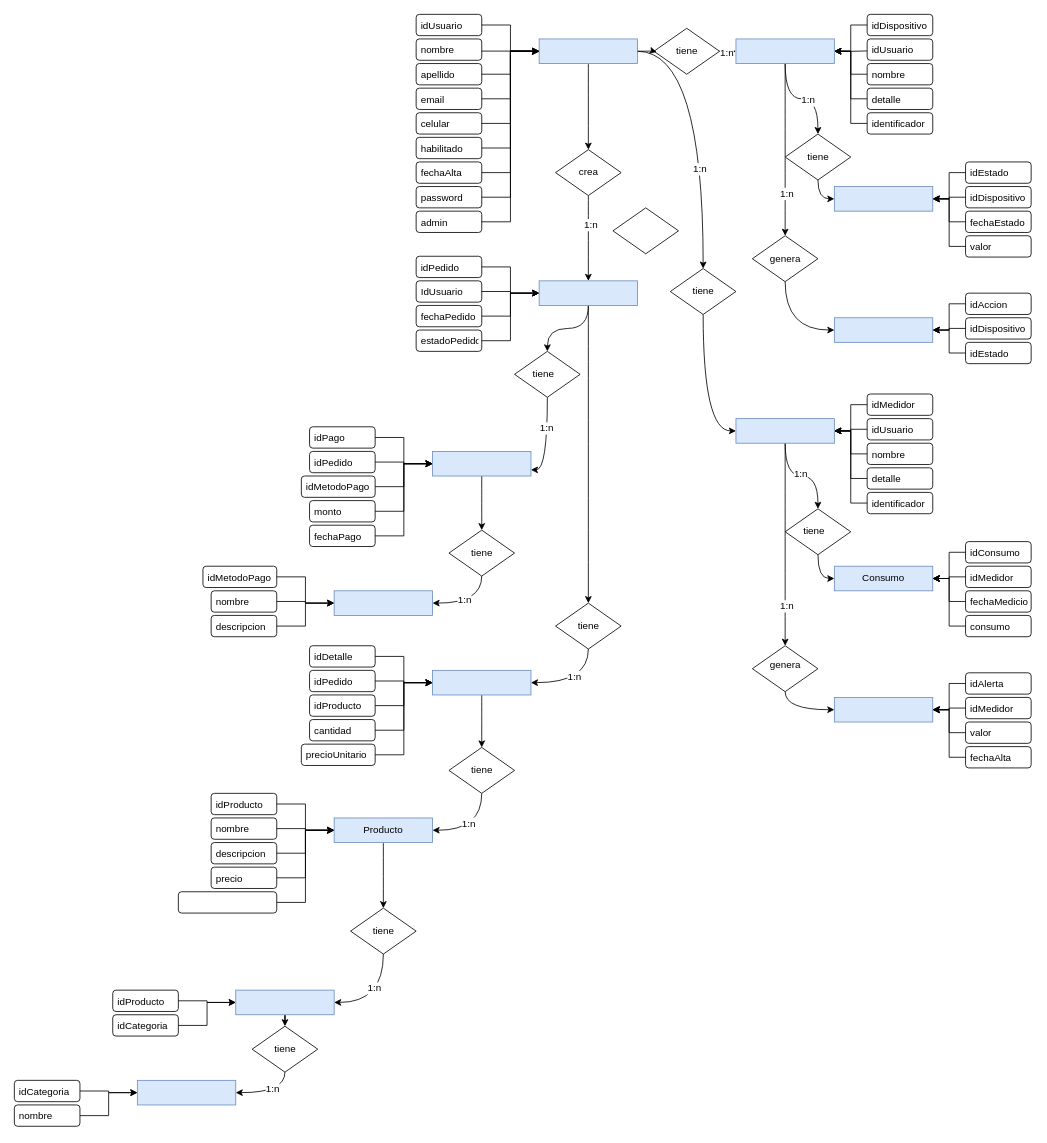
This 1047x1143 diagram has some shape labels left out. Here are the shapes that lost their labels. From the top down, the centre of each, then its label:
point 588,51: Usuario
point 784,51: DispositivoIOT
point 883,198: EstadoDispositivo
point 588,292: Pedido
point 883,329: AccionDispositivo
point 784,430: Medidor
point 481,463: PagoPedido
point 383,602: MetodoPago
point 481,682: DetallePedido
point 883,709: Alerta
point 227,902: cantidadDisponible
point 284,1002: ProductoPorCategoria
point 186,1092: Categoria
